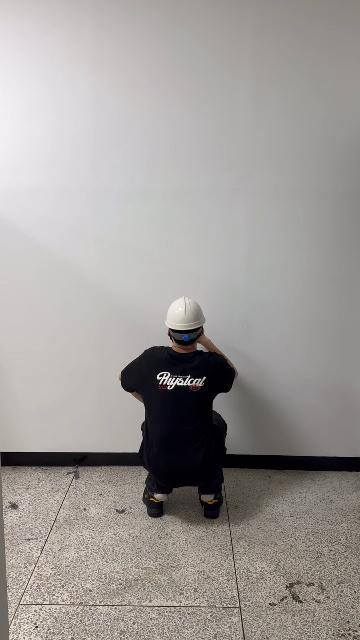helmet_worn: (164, 295, 205, 330)
shoe_worn: (199, 491, 222, 518), (143, 489, 164, 517)
vest_not_worn: (139, 347, 224, 479)
